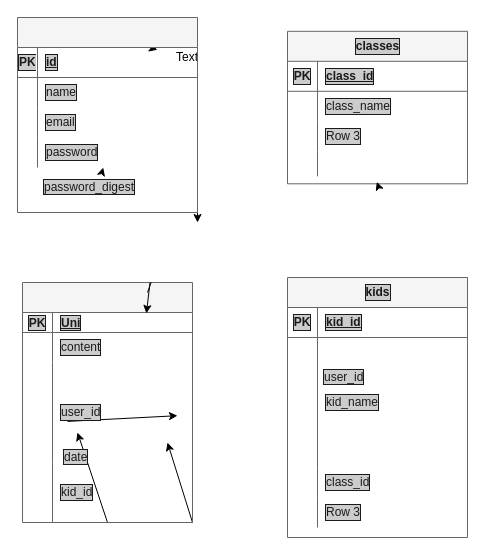
Some shapes in this 485 by 555 pixel diagram are drawn without their labels. Each missing label, with the box of its shape:
comments: (22, 282, 192, 522)
users: (16, 16, 198, 212)
